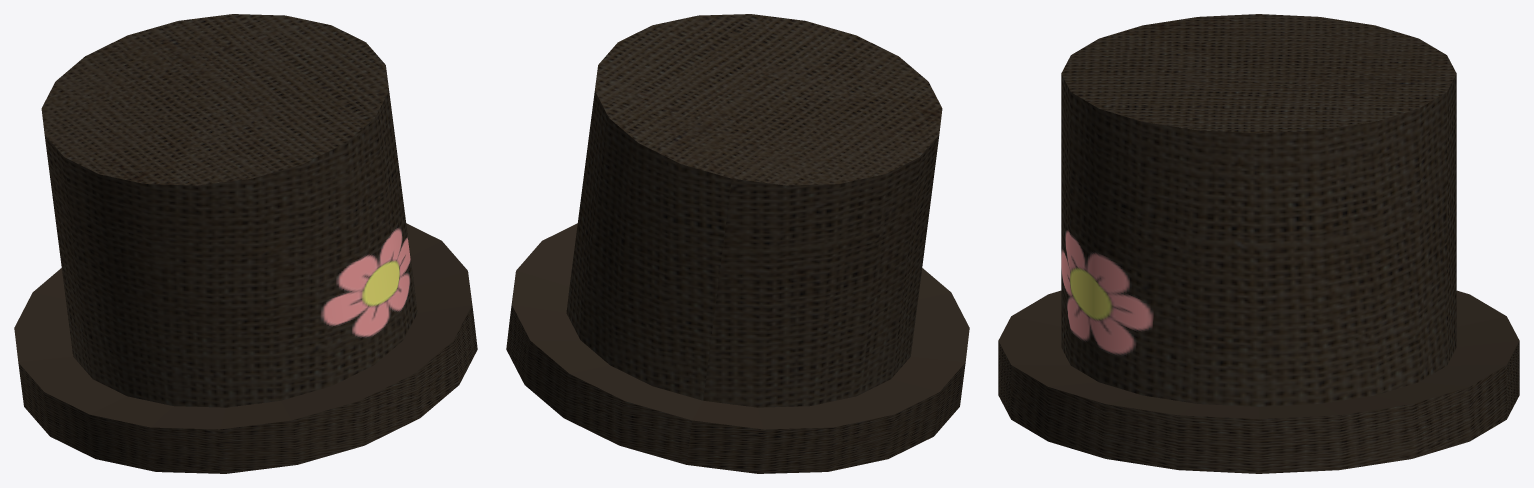
File: snowman_animated_bake_HAT2.fbx
3 renders of one model, left to right at view 1: azimuth 30°, elevation 25°; view 2: azimuth 150°, elevation 25°; view 3: azimuth 270°, elevation 25°, orthographic. The views are drawn at different scales.
Parts seen in each view (by area): view 1: polySurface1; view 2: polySurface1; view 3: polySurface1.
Boxes of the visible parts, bbox=[...] form: polySurface1: bbox=[14, 14, 477, 473]; polySurface1: bbox=[506, 14, 969, 473]; polySurface1: bbox=[998, 14, 1519, 473].
Size of the model in its own units: 2.19 by 1.64 by 2.18.
